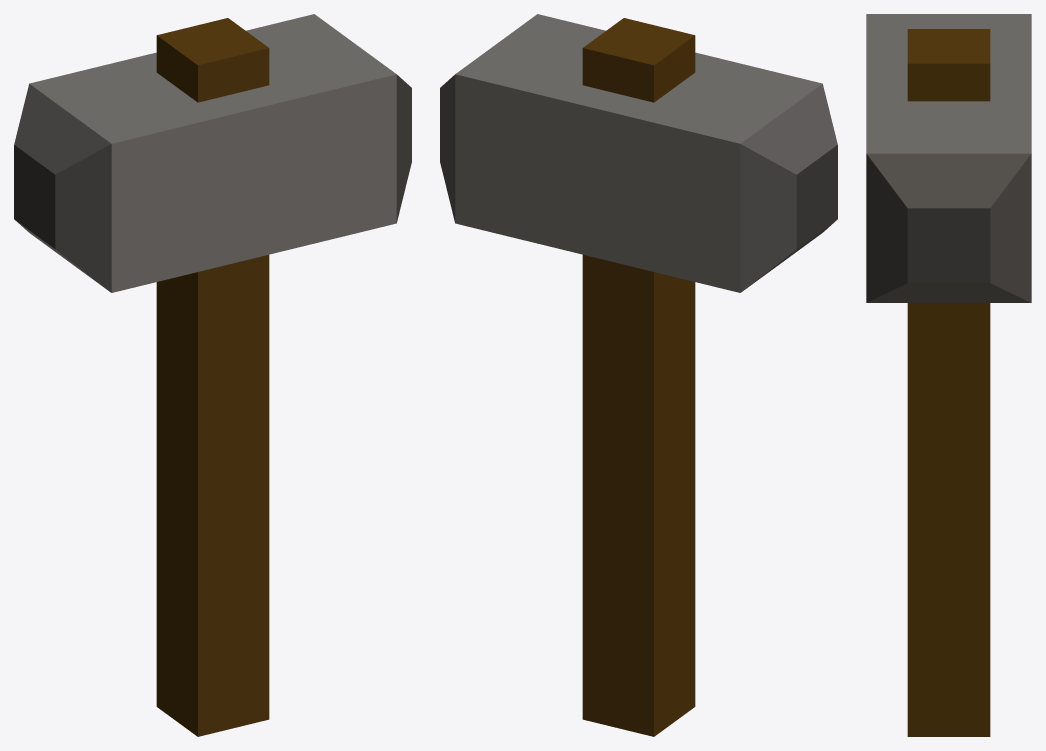
File: hammer_lv1.gltf
The picture shows the model from 3 angles, left to right: view 1: azimuth 30°, elevation 25°; view 2: azimuth 150°, elevation 25°; view 3: azimuth 270°, elevation 25°; orthographic projection.
Visible parts, largest first — view 1: hammer, body; view 2: hammer, body; view 3: body, hammer.
Part boxes in pixels (x1,y1,x2,y2): hammer: [14, 14, 411, 292]; body: [156, 18, 269, 736]; hammer: [440, 14, 837, 292]; body: [582, 18, 695, 736]; body: [907, 29, 990, 736]; hammer: [866, 14, 1031, 302].
Size of the model in its own units: 0.1562 by 0.2812 by 0.0625.
Materials: 2 (2 with a texture image).
